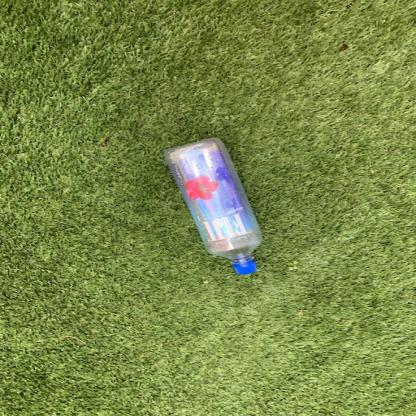trash: (166, 138, 270, 273)
